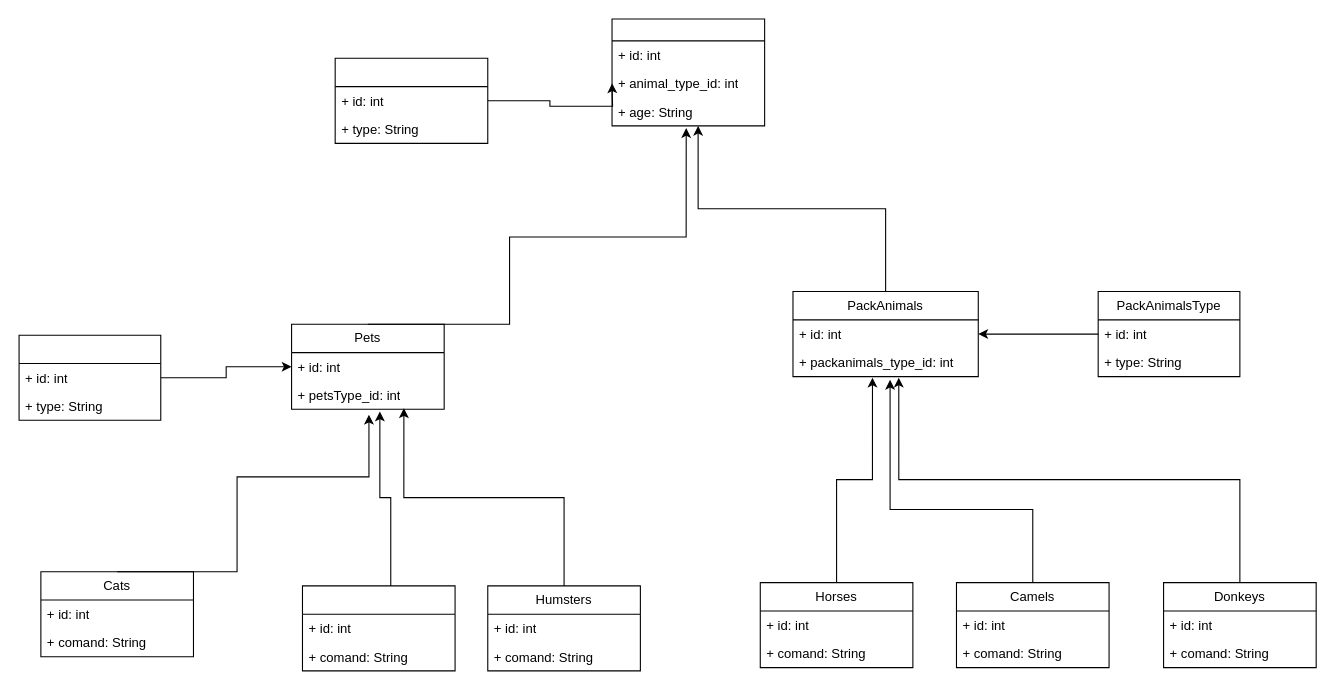
This 1335x693 diagram has some shape labels left out. The shapes that lost their labels are listed below. From the top down, each one's box as (x1, y1, x2, y2) in pixels, then its label:
(611, 18, 765, 126): Animals
(334, 57, 488, 143): AnimalType
(18, 334, 161, 420): PetsType
(301, 585, 455, 671): Dogs
